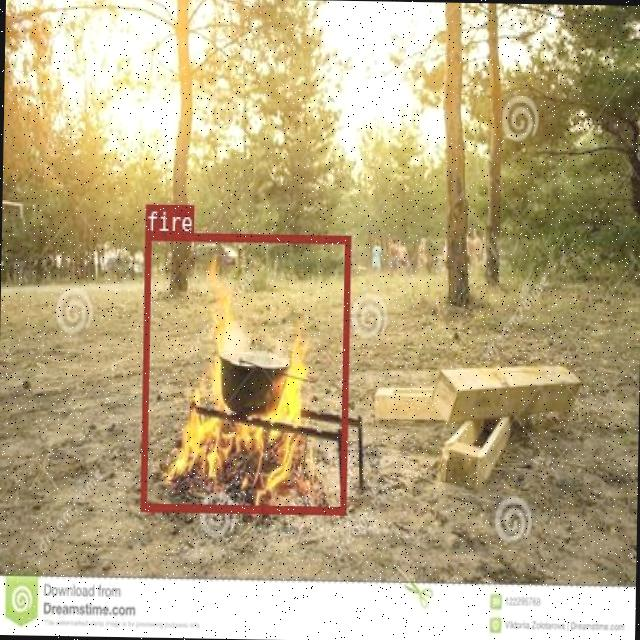fire: (139, 231, 349, 512)
